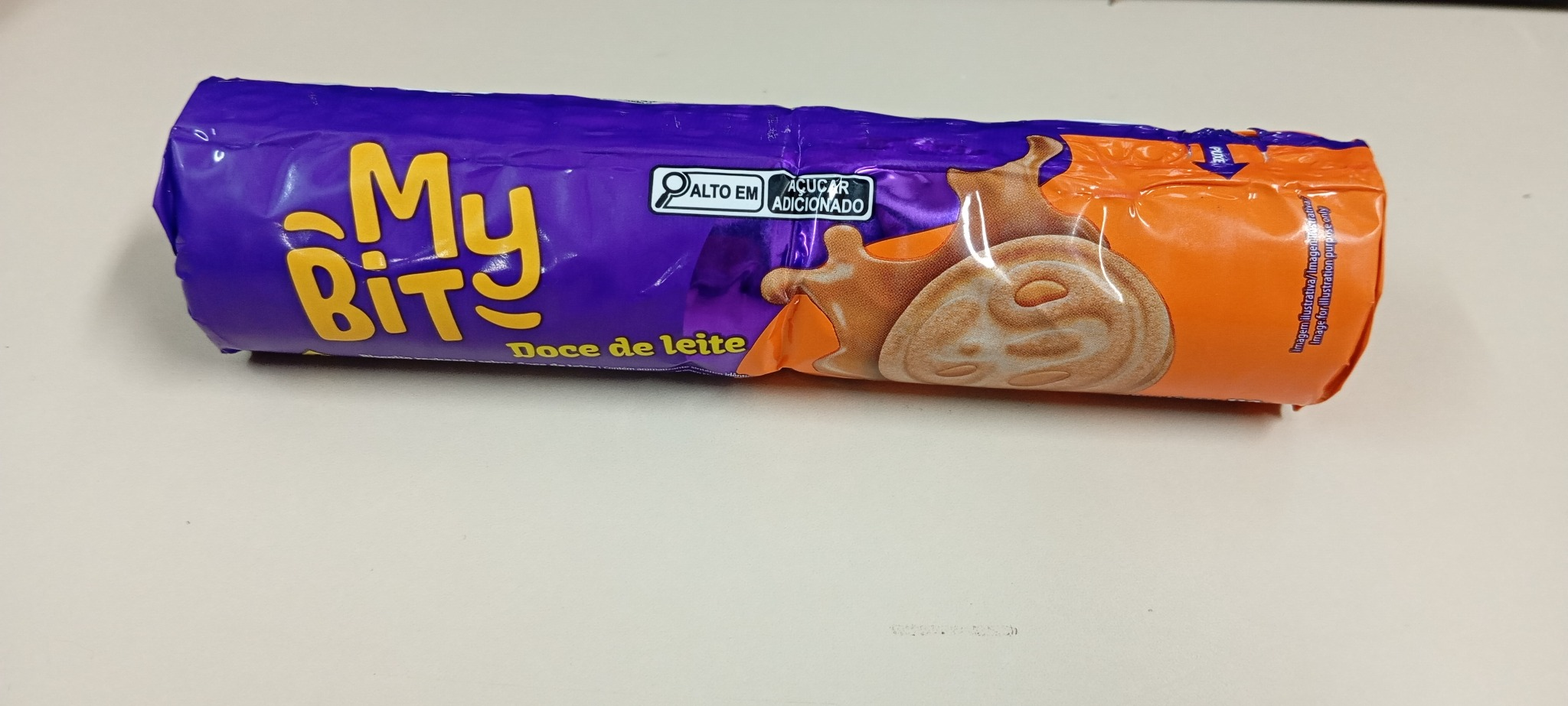my_bit_doce_leite: (138, 51, 1403, 432)
